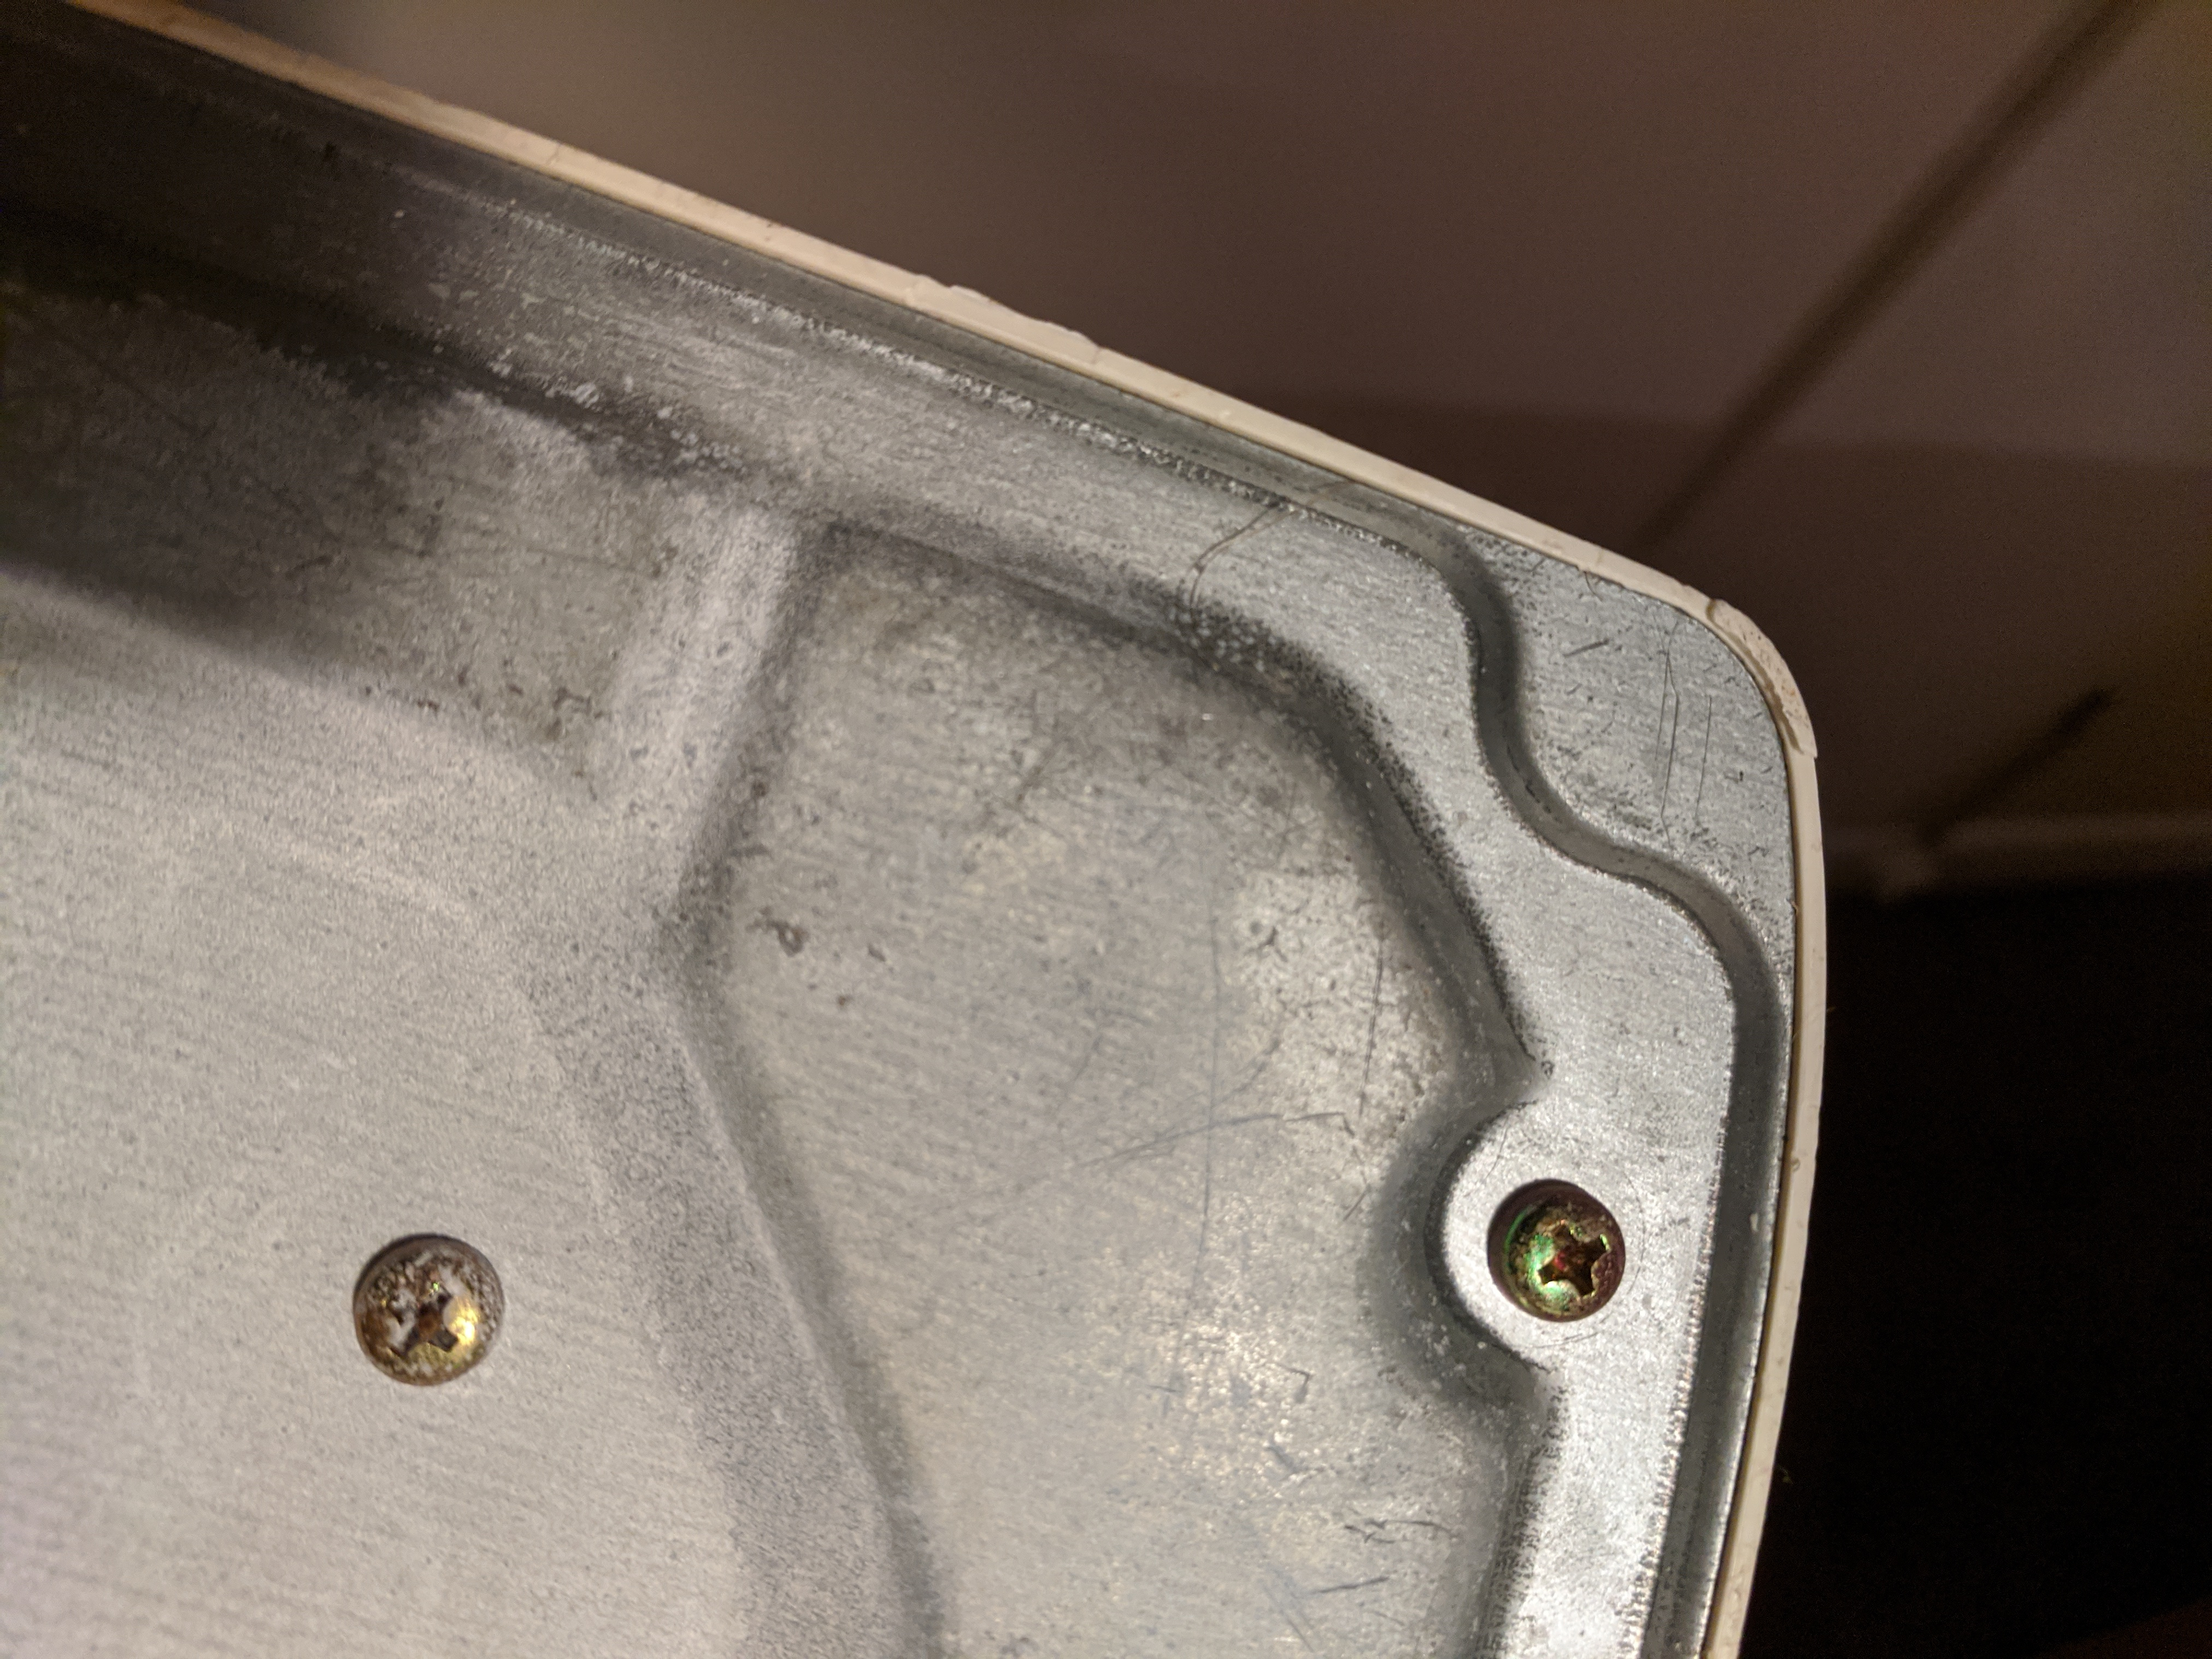cross_recessed_screw: (340, 1213, 498, 1398), (1484, 1168, 1634, 1337)
